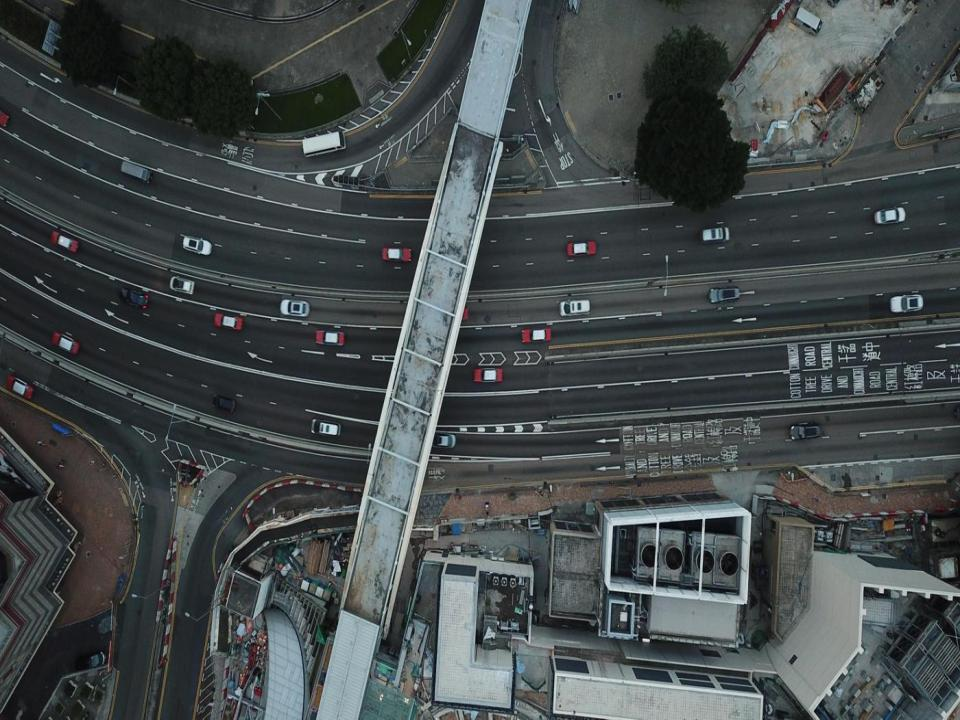bus: (301, 129, 346, 156)
car: (424, 304, 468, 324), (117, 286, 148, 311), (51, 330, 80, 356), (890, 294, 922, 316), (3, 374, 32, 398), (182, 235, 212, 256), (421, 432, 456, 450), (51, 230, 79, 252), (212, 311, 243, 329), (279, 298, 310, 316), (472, 365, 503, 382), (875, 205, 904, 223), (312, 419, 341, 437), (380, 247, 410, 264), (567, 241, 596, 258), (168, 277, 195, 295), (211, 395, 237, 412), (316, 329, 345, 344), (520, 329, 552, 341), (0, 112, 12, 131)
van: (792, 3, 824, 31), (119, 159, 152, 185), (73, 652, 108, 670), (708, 287, 740, 304), (559, 301, 591, 316), (788, 425, 822, 438), (700, 226, 729, 240)
